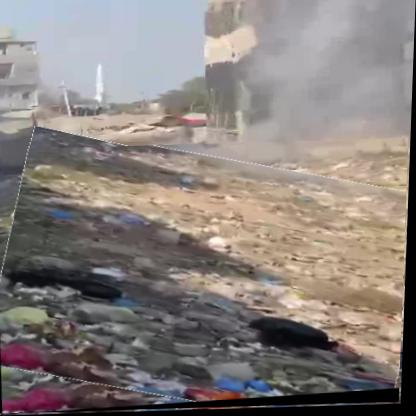Garbage: (1, 141, 412, 416)
